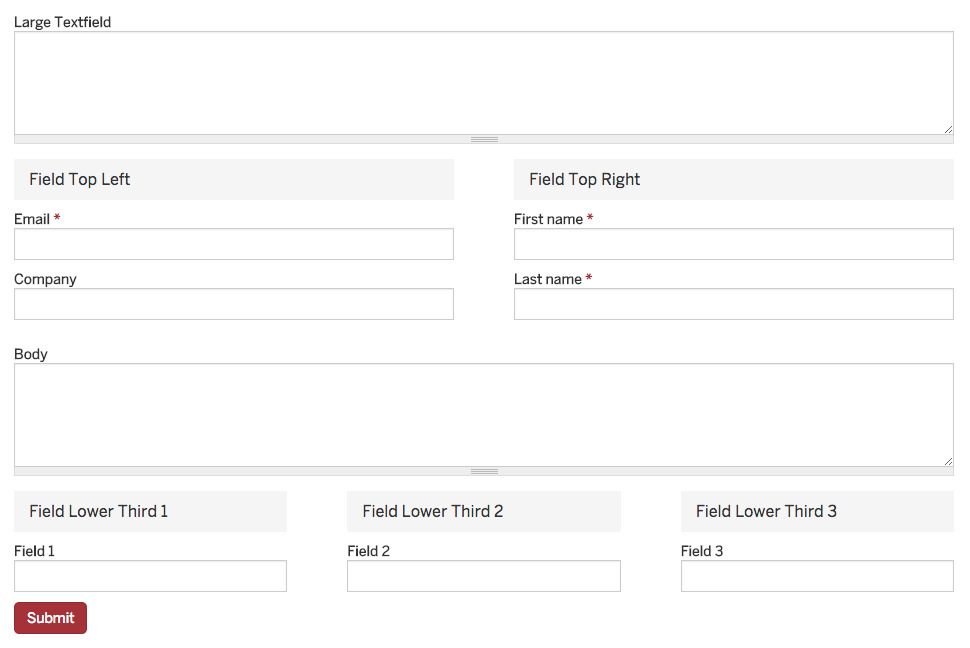_form_: (502, 101, 962, 455), (1, 293, 459, 648), (9, 16, 468, 370)
button: (13, 601, 89, 635)
field: (11, 29, 959, 147), (12, 362, 956, 479), (511, 227, 955, 262), (513, 287, 957, 322), (13, 227, 457, 261), (12, 287, 455, 320), (345, 558, 624, 595), (679, 558, 957, 594), (13, 558, 288, 593)
field_with_label: (8, 13, 962, 150), (10, 345, 961, 481), (508, 210, 959, 264), (10, 210, 459, 263), (7, 272, 457, 324), (511, 272, 960, 324), (343, 545, 628, 597), (676, 544, 960, 596), (10, 544, 290, 596)
